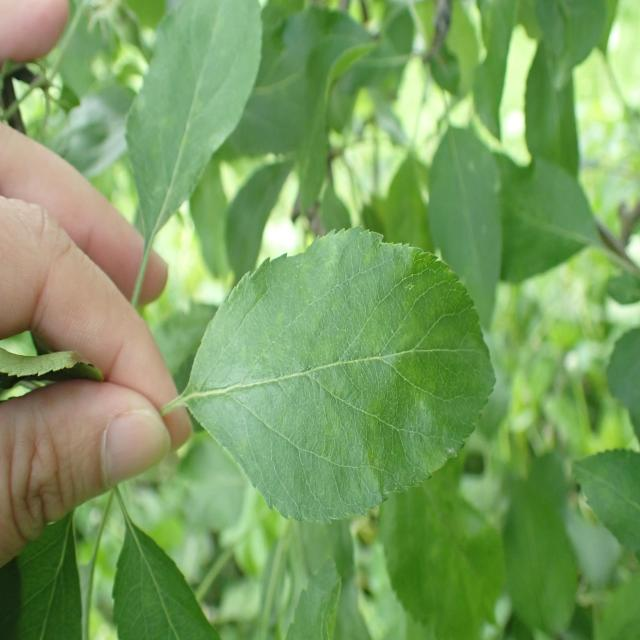scab: (216, 272, 481, 486)
